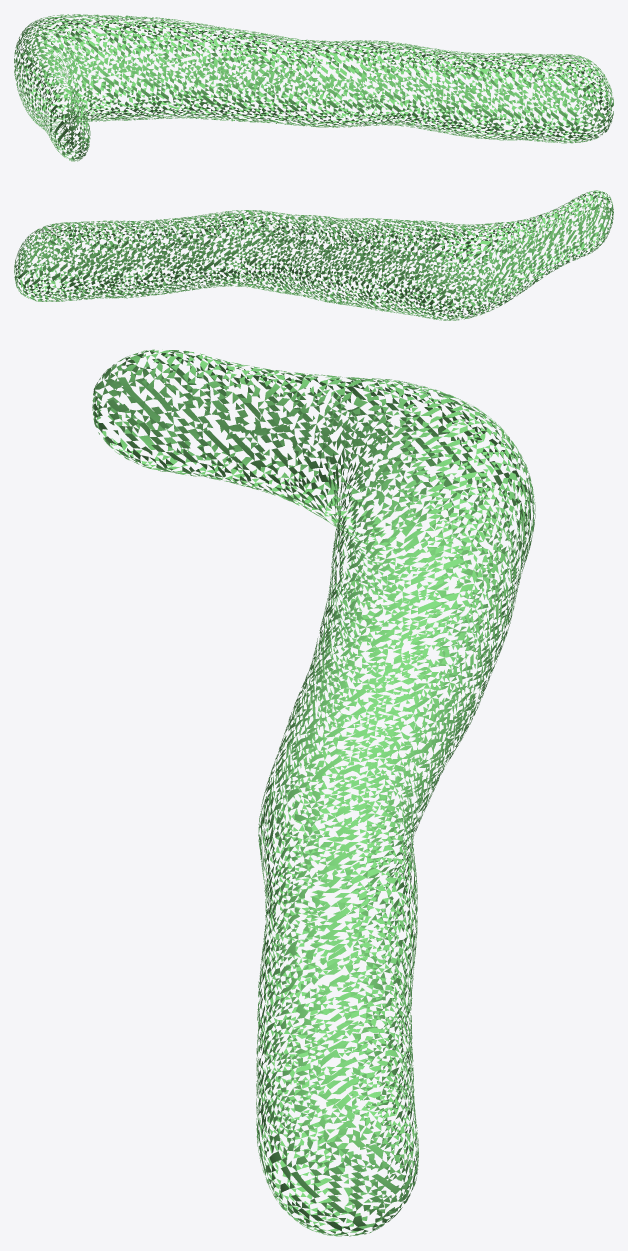
File: morph_017.glb
3 views of the same model, one above another, from view 1: azimuth 30°, elevation 25°; view 2: azimuth 150°, elevation 25°; view 3: azimuth 270°, elevation 25° (orthographic). The views are drawn at different scales.
Size of the model in its own units: 110 by 38.52 by 39.38.
